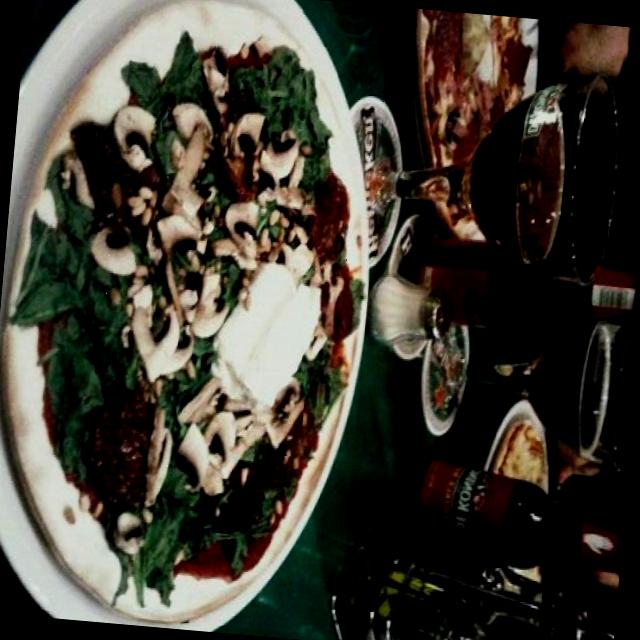basil: (22, 170, 154, 458), (231, 38, 340, 175), (132, 470, 206, 597), (210, 436, 289, 554), (120, 60, 196, 172), (160, 34, 216, 124), (294, 334, 348, 411), (201, 180, 235, 270)
mushrooms: (219, 110, 325, 281), (144, 185, 241, 340), (110, 95, 220, 198), (174, 382, 260, 502), (124, 276, 202, 390), (254, 373, 306, 456), (304, 255, 349, 350), (86, 218, 144, 280), (142, 404, 176, 506)
pizza: (2, 0, 368, 622)
